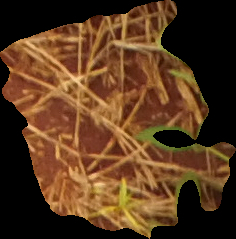soil: (2, 1, 233, 238)
